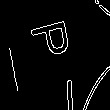P_E: (33, 19, 82, 66)
